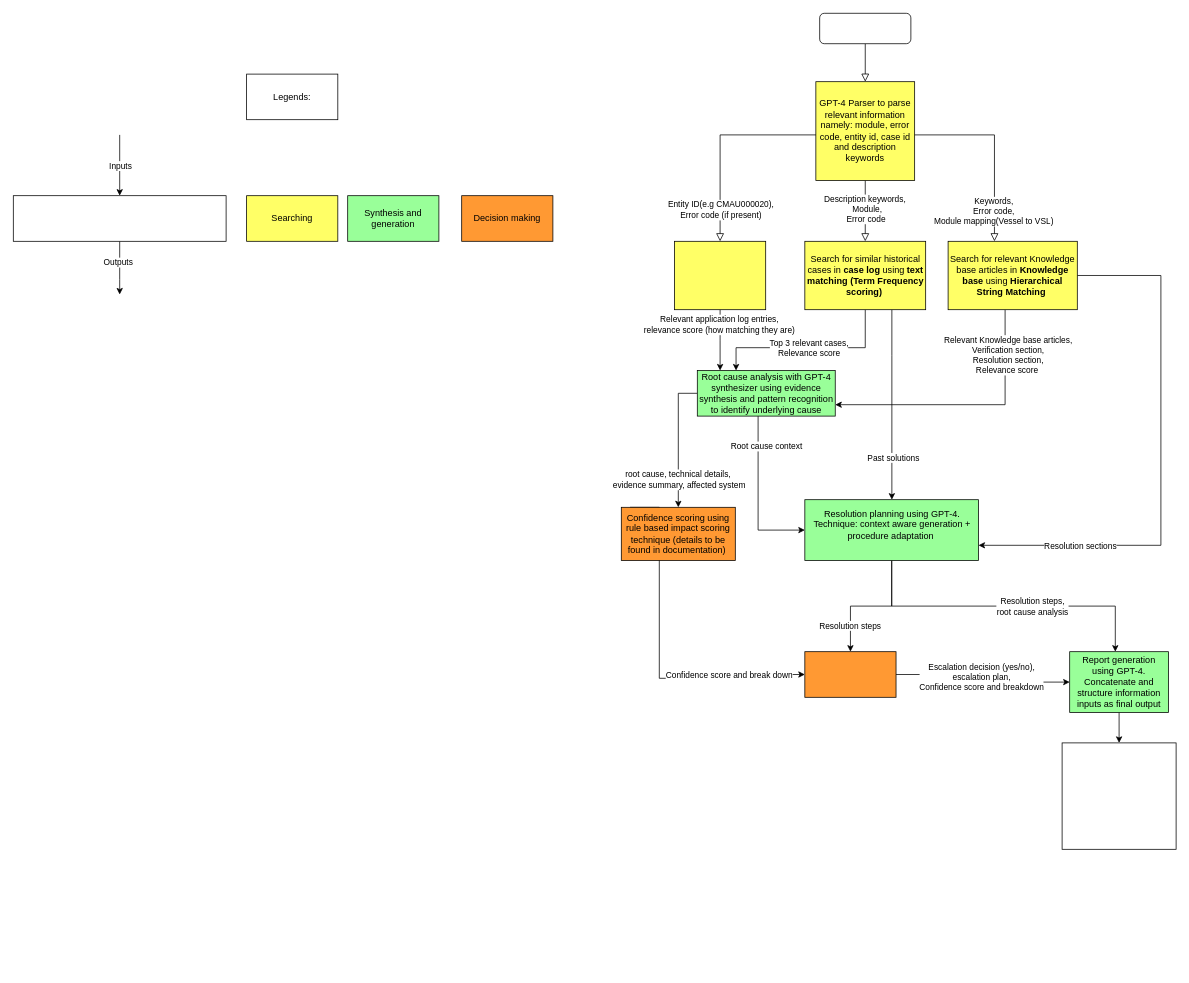
The diagram is 1189 pixels wide and 983 high, and some of its shapes have lost their labels. Here are the shapes that lost their labels. From the top down, the box of each, then its label:
(819, 13, 911, 44): Raw text input: Email/SMS/Call
(13, 195, 226, 241): Searching/synthesising/decision making using input
(674, 241, 766, 310): Search for matching Log entries in Application Logs using Regex search
(804, 651, 896, 697): Escalation decision using multi-factor analyzer
(1061, 742, 1176, 849): Final output: diagnostic report ticket data confidence assessment
